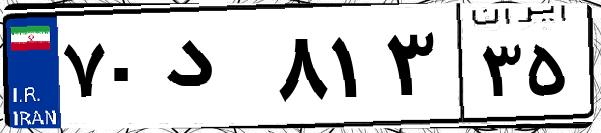0: (110, 28, 158, 98)
1: (330, 28, 385, 110)
3: (385, 28, 445, 110), (475, 38, 525, 113)
5: (525, 38, 570, 115)
7: (57, 26, 110, 100)
8: (270, 28, 330, 110)
د: (158, 20, 270, 120)
